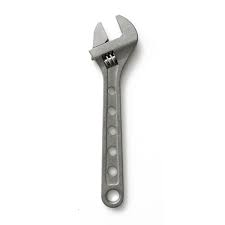Wrench: (89, 15, 137, 207)
